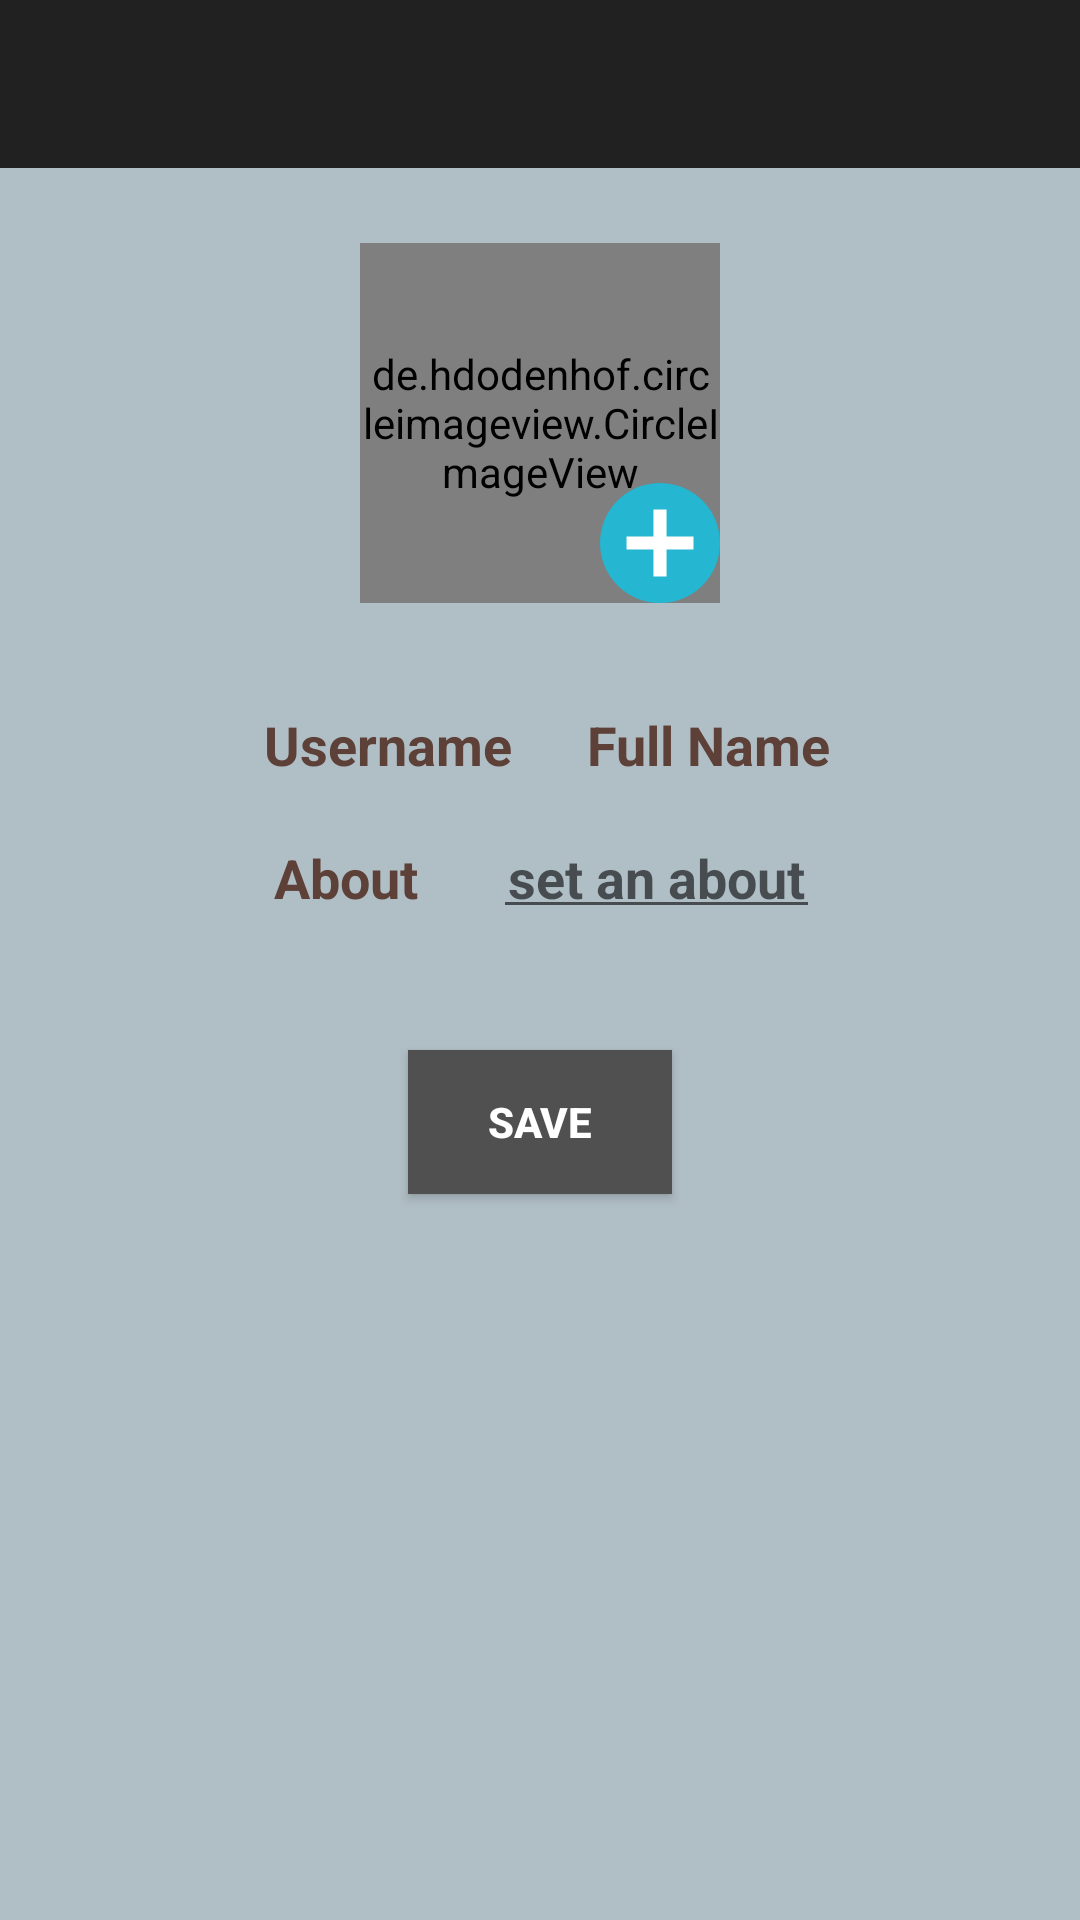

Where to tap for icons on this 1080px×1920px app screen, as (x,y):
add: (660,543)
